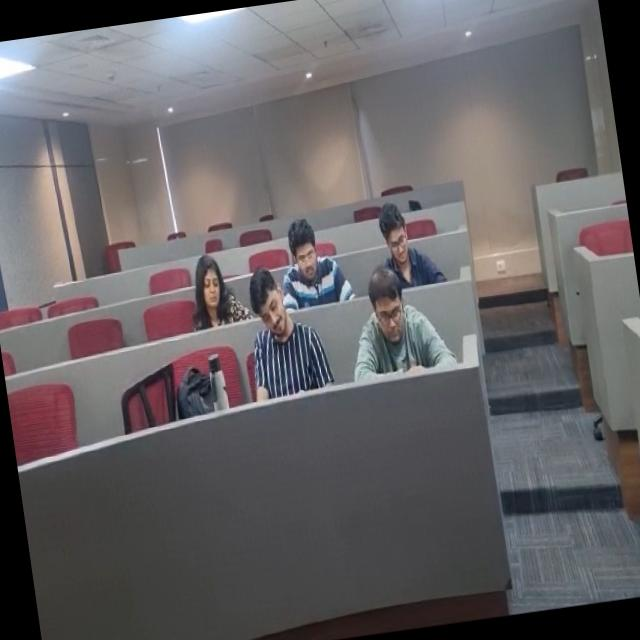non-cheating: (348, 257, 442, 386), (236, 261, 309, 405), (178, 242, 248, 348), (278, 205, 350, 308), (370, 191, 434, 280)
